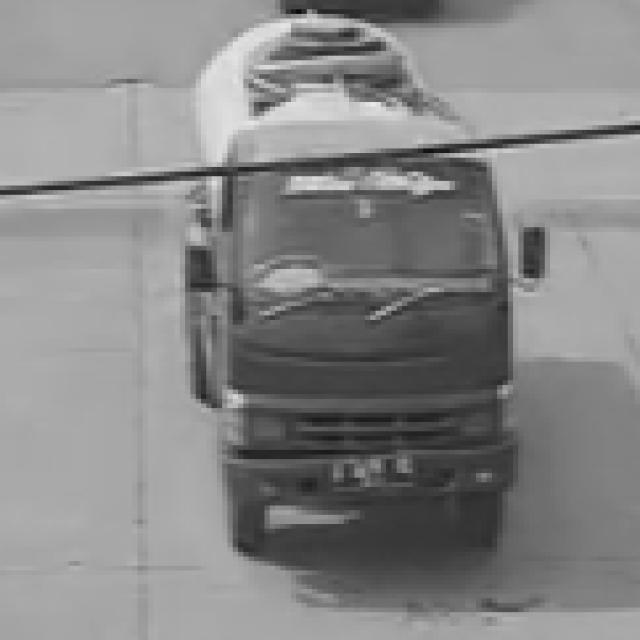Truck: (157, 9, 555, 570)
